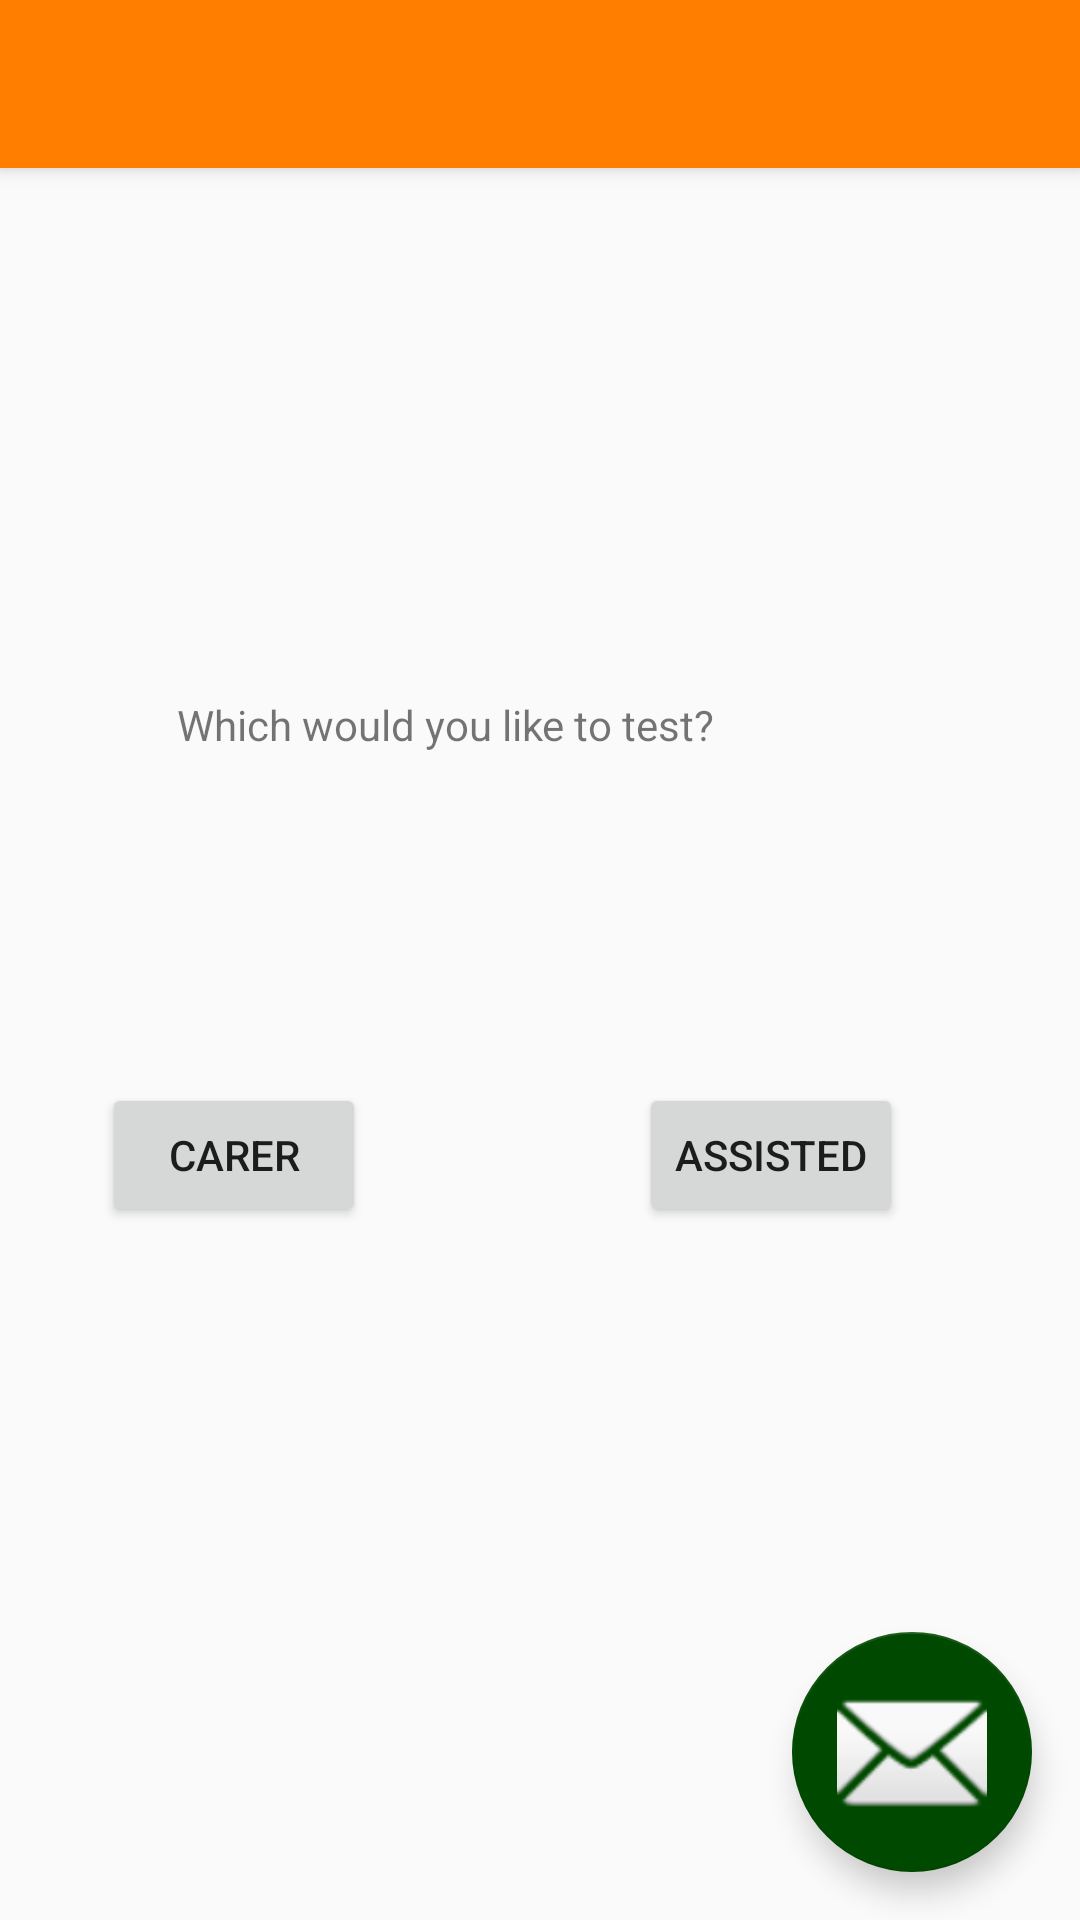

Named icons in this screenshot (1080w x 1920h) and their centers, (x=x, y=y):
email: (x=912, y=1752)
